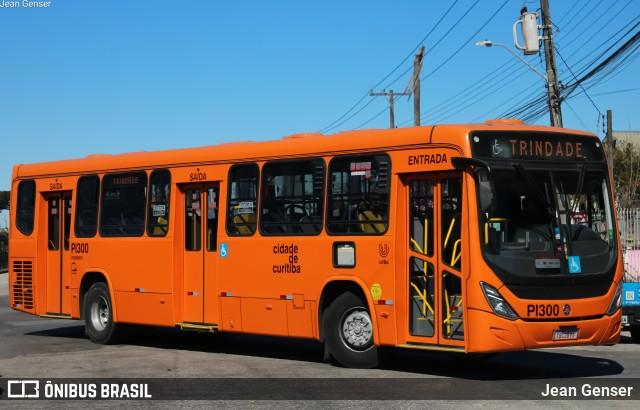TRINDADE: (503, 134, 584, 161)
